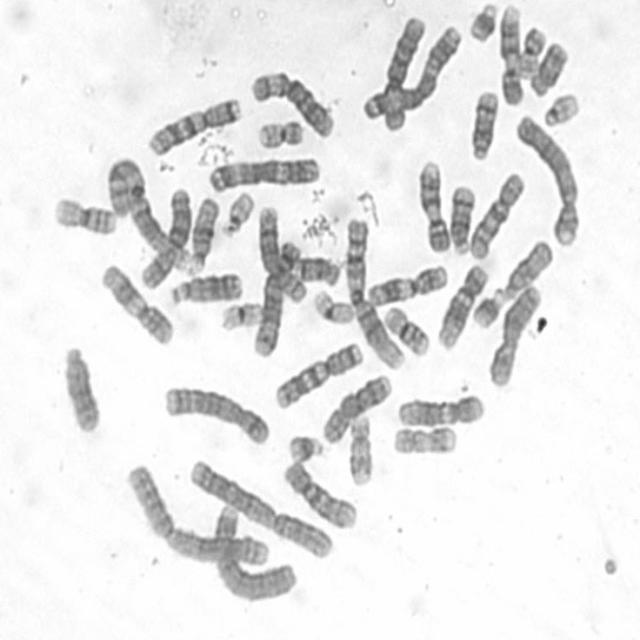A1: (102, 154, 191, 274), (341, 219, 403, 371)
A2: (123, 460, 272, 568), (183, 455, 334, 560)
A3: (358, 20, 462, 122), (204, 152, 324, 194)
B4: (515, 109, 582, 247), (210, 503, 299, 602)
B5: (161, 388, 271, 447), (250, 238, 302, 358)
C10: (279, 456, 358, 532), (466, 167, 527, 261)
C11: (97, 259, 176, 348), (364, 261, 448, 308)
C12: (434, 262, 490, 350), (393, 391, 485, 428)
C6: (360, 12, 430, 120), (247, 66, 336, 140)
C7: (272, 338, 366, 410), (144, 92, 244, 158)
C8: (318, 370, 394, 446), (254, 202, 309, 305)
C9: (415, 157, 450, 253), (496, 2, 524, 106)
D13: (59, 341, 103, 435), (167, 268, 243, 307)
D14: (466, 86, 500, 161), (447, 183, 476, 254)
D15: (502, 240, 556, 304), (184, 194, 222, 276)
E16: (50, 192, 118, 238), (381, 302, 431, 357)
E17: (345, 410, 375, 489), (390, 423, 459, 457)
E18: (527, 38, 570, 97), (292, 251, 342, 287)
F19: (310, 286, 356, 327), (217, 299, 264, 333)
F20: (518, 24, 550, 80), (254, 116, 305, 150)
G21: (469, 283, 505, 330), (466, 0, 497, 45), (286, 430, 326, 464)
G22: (218, 188, 258, 239), (541, 90, 581, 128)
X: (484, 280, 544, 388), (136, 185, 193, 291)
